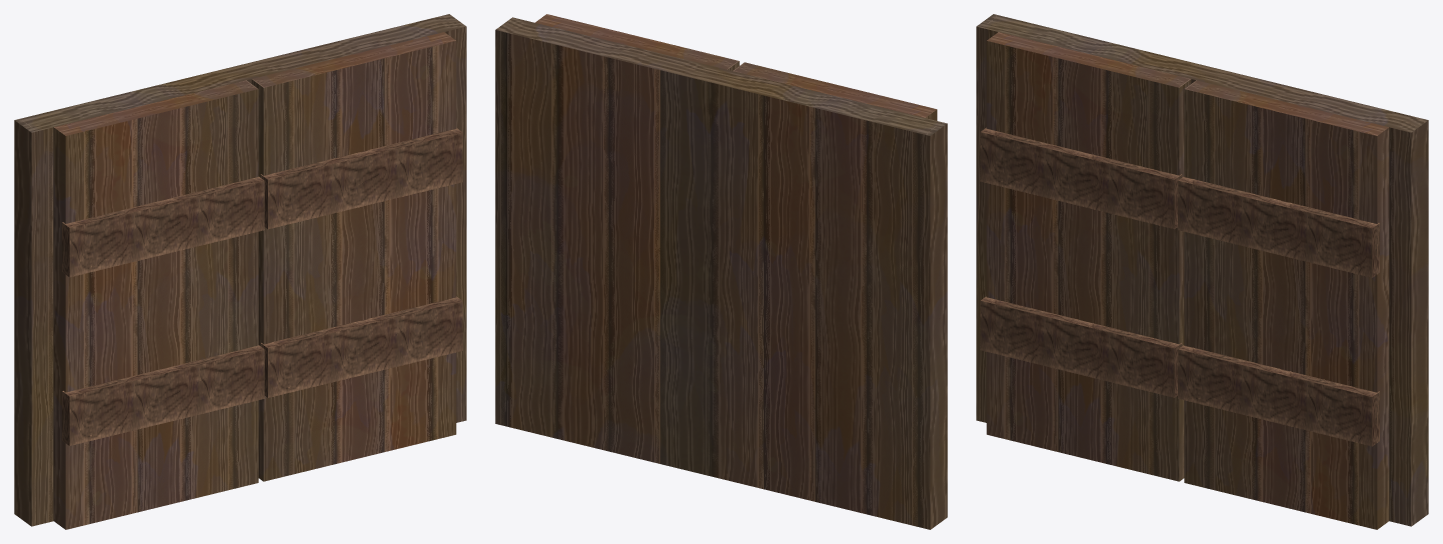
The model's file is NBex_win.fbx.
3 renders of one model, left to right at view 1: azimuth 30°, elevation 25°; view 2: azimuth 150°, elevation 25°; view 3: azimuth 330°, elevation 25°, orthographic.
Visible parts, largest first — view 1: Box005; view 2: Box005; view 3: Box005.
Part boxes in pixels (x1=…): Box005: x1=14, y1=14, x2=466, y2=529; Box005: x1=495, y1=14, x2=947, y2=529; Box005: x1=976, y1=14, x2=1428, y2=529.
Size of the model in its own units: 76.72 by 66.37 by 10.68.
Materials: 2 (2 with a texture image).
